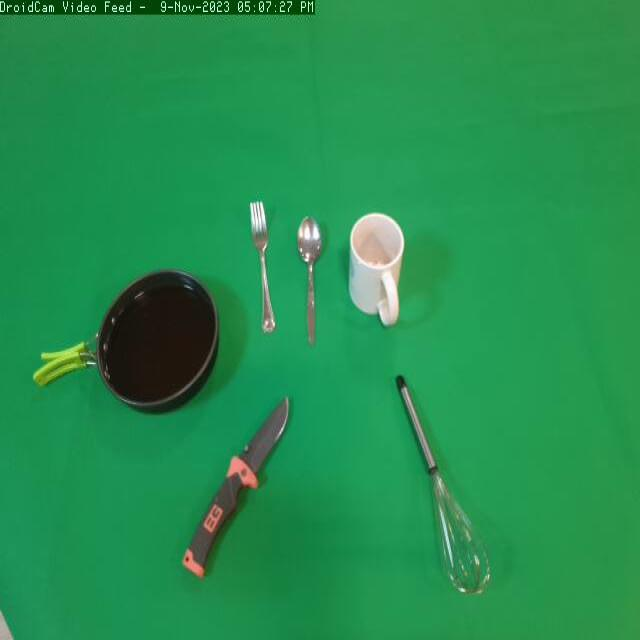cup: (344, 208, 408, 332)
fork: (241, 196, 287, 342)
fullpan: (14, 260, 228, 423)
knife: (178, 384, 305, 603)
spoon: (292, 211, 336, 349)
whisk: (386, 366, 505, 612)
